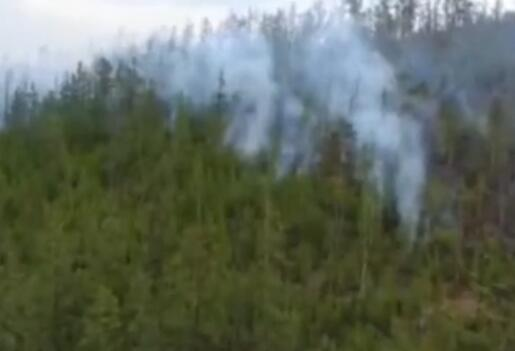yanwu: (1, 1, 445, 245)
